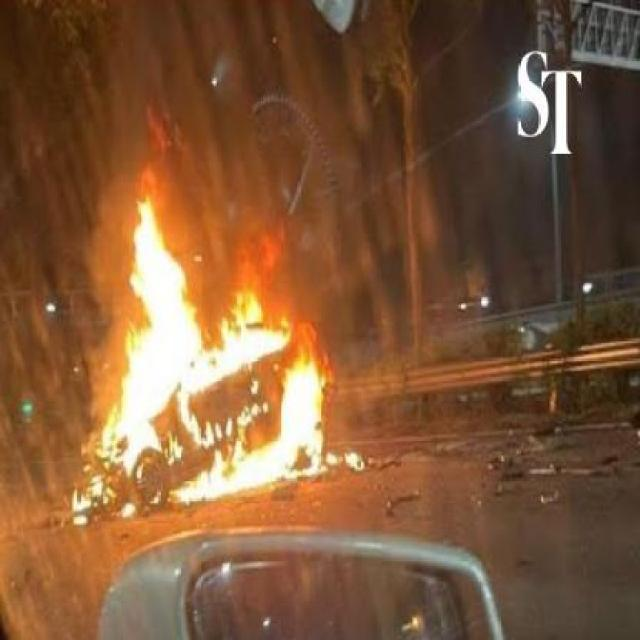Fire: (83, 182, 367, 520)
Smoke: (42, 0, 480, 368)
